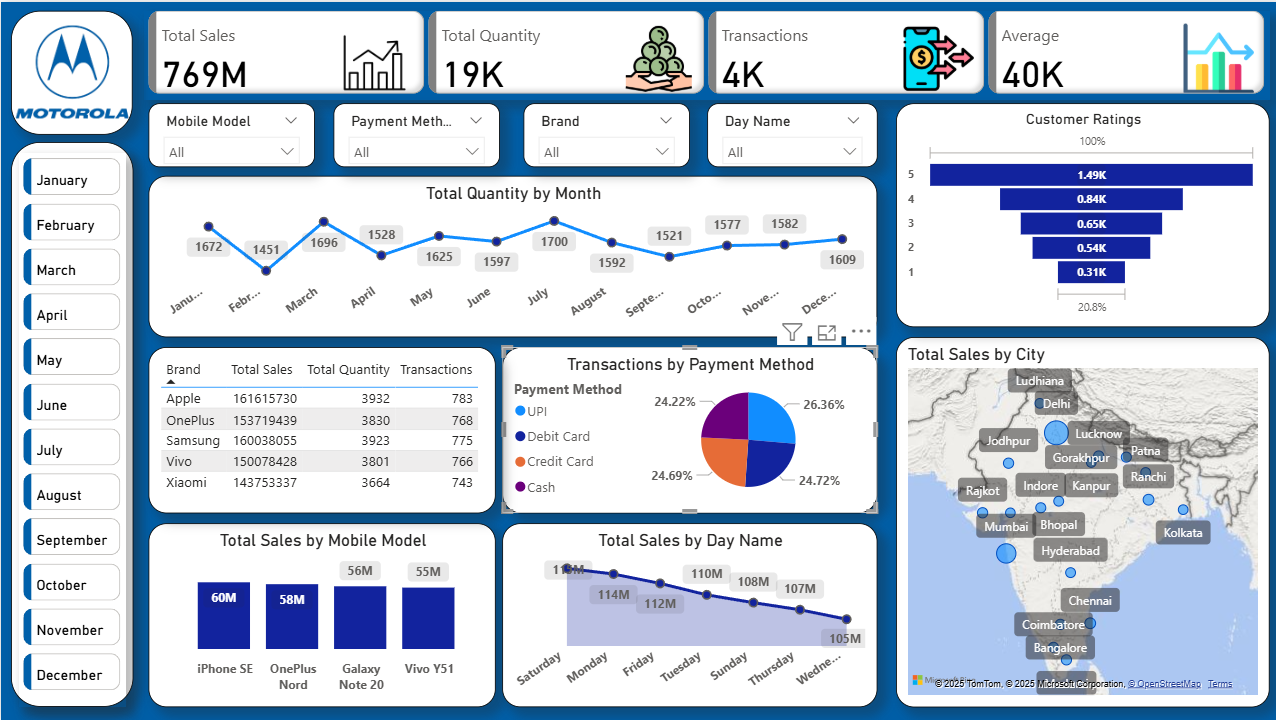

What the dashboard file says about the page in this screenshot:
{"tool":"powerbi","page":{"name":"Page 1","canvas":[1280,720],"ordinal":0},"visuals":[{"type":"shape","box":[10,8.8,121.2,123.8],"z":0},{"type":"image","box":[10,0,122.5,140],"z":1000},{"type":"shape","box":[10,140,122.5,565],"z":2000},{"type":"advancedSlicerVisual","fields":{"Values":["Sheet1.Date.Variation.Date Hierarchy.Month"]},"box":[17.5,151.2,107.5,553.8],"z":3000},{"type":"cardVisual","fields":{"Data":["Sheet1.Total Sales","Sheet1.Total Quantity","Sheet1.Transactions","Sheet1.Average","Sheet1.Average"]},"box":[142.5,8.8,1126.2,88.8],"z":4000},{"type":"map","fields":{"Category":["Sheet1.City"],"Size":["Sheet1.Total Sales"]},"box":[895,335,373.8,370],"z":5000},{"type":"lineChart","fields":{"Category":["Sheet1.Date.Variation.Date Hierarchy.Month","Sheet1.Date.Variation.Date Hierarchy.Day"],"Y":["Sheet1.Total Quantity"]},"box":[147.5,173.8,728.8,161.2],"z":6000},{"type":"columnChart","fields":{"Category":["Sheet1.Mobile Model"],"Y":["Sheet1.Total Sales"]},"box":[147.5,521.2,347.5,183.8],"z":7000},{"type":"pieChart","fields":{"Category":["Sheet1.Payment Method"],"Y":["Sheet1.Transactions"]},"box":[501.2,345,375,166.2],"z":8000},{"type":"funnel","title":"Customer Ratings ","fields":{"Category":["Sheet1.Customer Ratings"],"Y":["CountNonNull(Sheet1.Customer Ratings)"]},"box":[895,101.2,373.8,223.8],"z":9000},{"type":"areaChart","fields":{"Category":["Sheet1.Day Name.1"],"Y":["Sheet1.Total Sales"]},"box":[501.2,521.2,375,183.8],"z":10000},{"type":"tableEx","fields":{"Values":["Sales_Data.Brand","Sales_Data.Total Sales","Sales_Data.Total Quantity","Sales_Data.Transactions"]},"box":[147.5,345,347.5,166.2],"z":11000},{"type":"slicer","fields":{"Values":["Sales_Data.Mobile Model"]},"box":[147.5,101.2,166.2,63.8],"z":11001},{"type":"slicer","fields":{"Values":["Sales_Data.Payment Method"]},"box":[332.5,101.2,166.2,63.8],"z":11002},{"type":"slicer","fields":{"Values":["Sales_Data.Brand"]},"box":[522.5,101.2,166.2,63.8],"z":11003},{"type":"slicer","fields":{"Values":["Sales_Data.Day Name"]},"box":[706.2,101.2,170,63.8],"z":11004}]}

Visuals, with their boxes in screenshot pixels (x1, y1, x2, y2), scaled from the page's 1280x720 canvas onto the 1276x720 screenshot:
shape: 10, 9, 131, 133
image: 10, 0, 132, 140
shape: 10, 140, 132, 705
advancedSlicerVisual - Sheet1.Date.Variation.Date Hierarchy.Month: 17, 151, 125, 705
cardVisual - Sheet1.Total Sales x Sheet1.Total Quantity: 142, 9, 1265, 98
map - Sheet1.City x Sheet1.Total Sales: 892, 335, 1265, 705
lineChart - Sheet1.Date.Variation.Date Hierarchy.Month x Sheet1.Date.Variation.Date Hierarchy.Day: 147, 174, 874, 335
columnChart - Sheet1.Mobile Model x Sheet1.Total Sales: 147, 521, 493, 705
pieChart - Sheet1.Payment Method x Sheet1.Transactions: 500, 345, 873, 511
"Customer Ratings " funnel: 892, 101, 1265, 325
areaChart - Sheet1.Day Name.1 x Sheet1.Total Sales: 500, 521, 873, 705
tableEx - Sales_Data.Brand x Sales_Data.Total Sales: 147, 345, 493, 511
slicer - Sales_Data.Mobile Model: 147, 101, 313, 165
slicer - Sales_Data.Payment Method: 331, 101, 497, 165
slicer - Sales_Data.Brand: 521, 101, 687, 165
slicer - Sales_Data.Day Name: 704, 101, 873, 165
